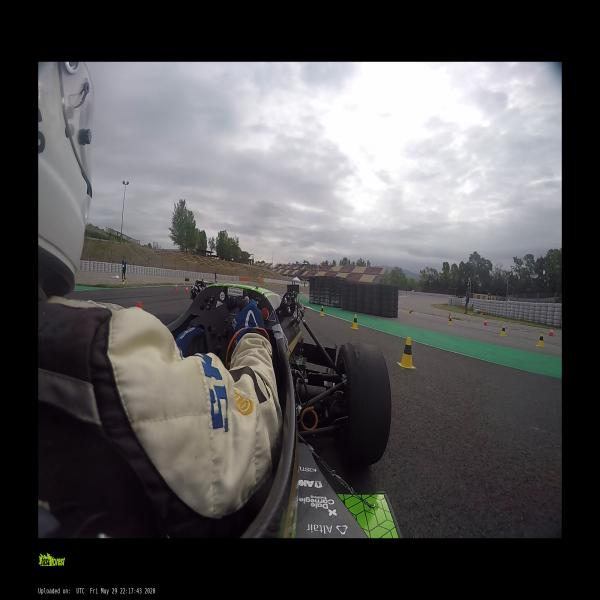orange_cone: (548, 327, 554, 337), (136, 301, 142, 308), (184, 287, 189, 294), (483, 319, 487, 326), (174, 283, 177, 289), (183, 282, 185, 286)
yellow_cone: (398, 337, 416, 369), (535, 332, 546, 348), (350, 314, 359, 330), (499, 325, 506, 337), (318, 305, 325, 316), (448, 317, 453, 325), (408, 309, 412, 317), (121, 278, 125, 284)
